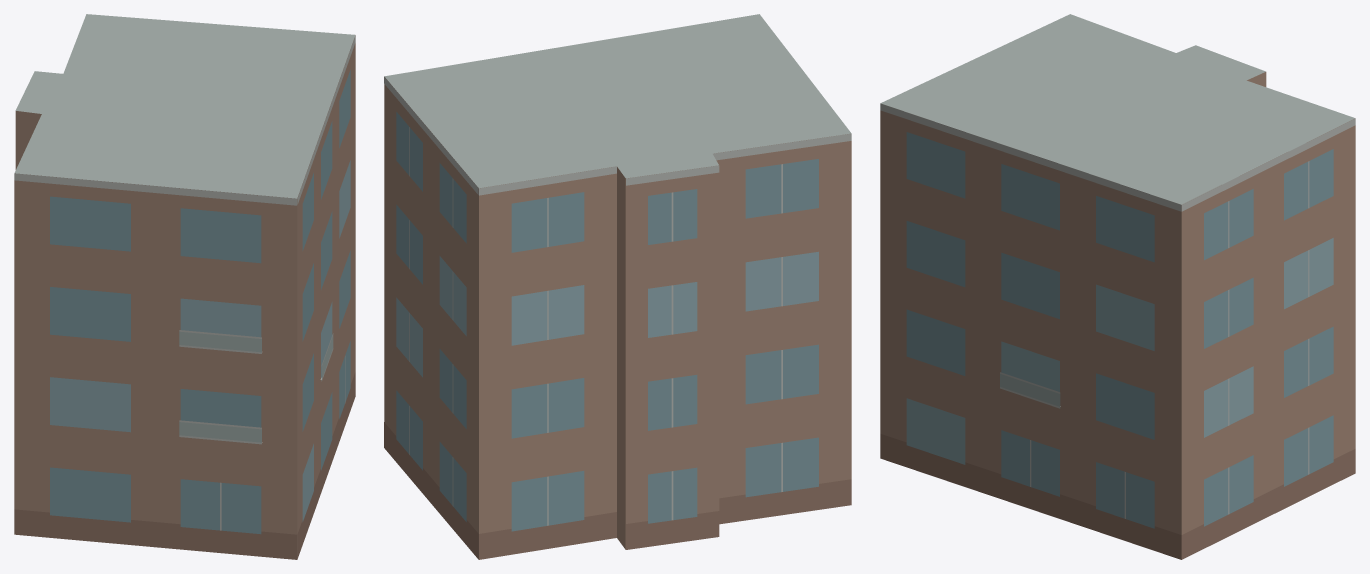
File: survey-upis-33042013.glb
3 views of the same model, side by side, from view 1: azimuth 30°, elevation 25°; view 2: azimuth 150°, elevation 25°; view 3: azimuth 270°, elevation 25° (orthographic). The views are drawn at different scales.
Parts seen in each view (by area): view 1: survey-upis-33042013.tmp; view 2: survey-upis-33042013.tmp; view 3: survey-upis-33042013.tmp.
Part boxes in pixels (x1=…): survey-upis-33042013.tmp: x1=14, y1=14, x2=355, y2=559; survey-upis-33042013.tmp: x1=384, y1=14, x2=851, y2=559; survey-upis-33042013.tmp: x1=880, y1=14, x2=1355, y2=559.
Size of the model in its own units: 14.3 by 12.4 by 15.05.
